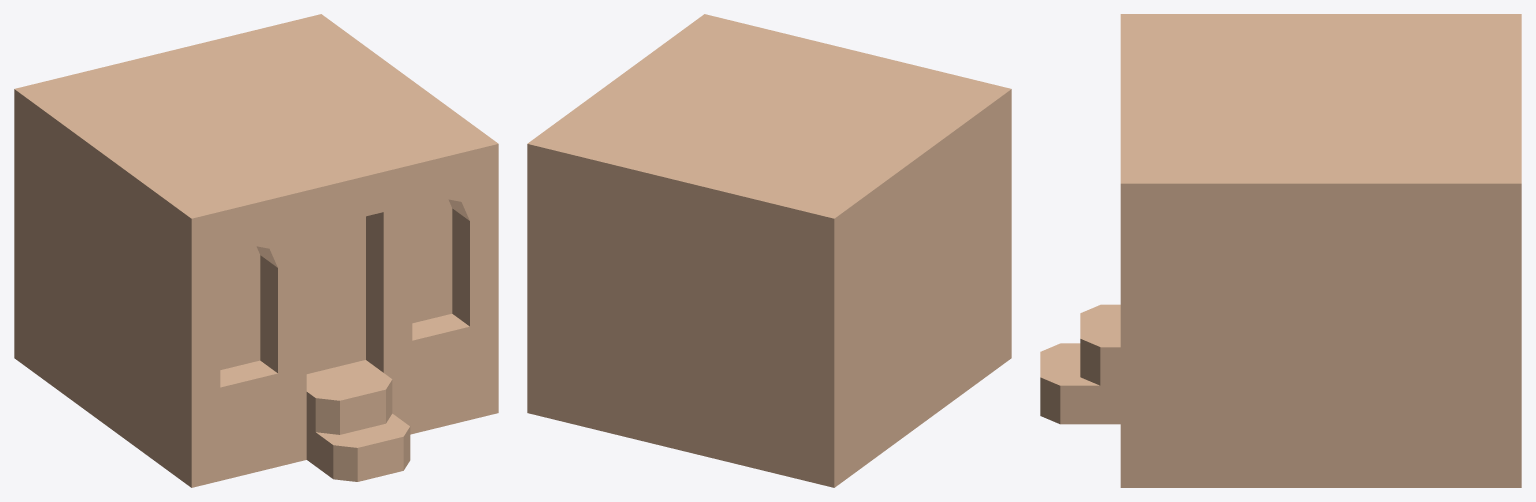
File: building-steps-narrow-windows-round.obj
3 renders of one model, left to right at view 1: azimuth 30°, elevation 25°; view 2: azimuth 150°, elevation 25°; view 3: azimuth 270°, elevation 25°, orthographic. The views are drawn at different scales.
Size of the model in its own units: 1 by 0.8375 by 1.2.
